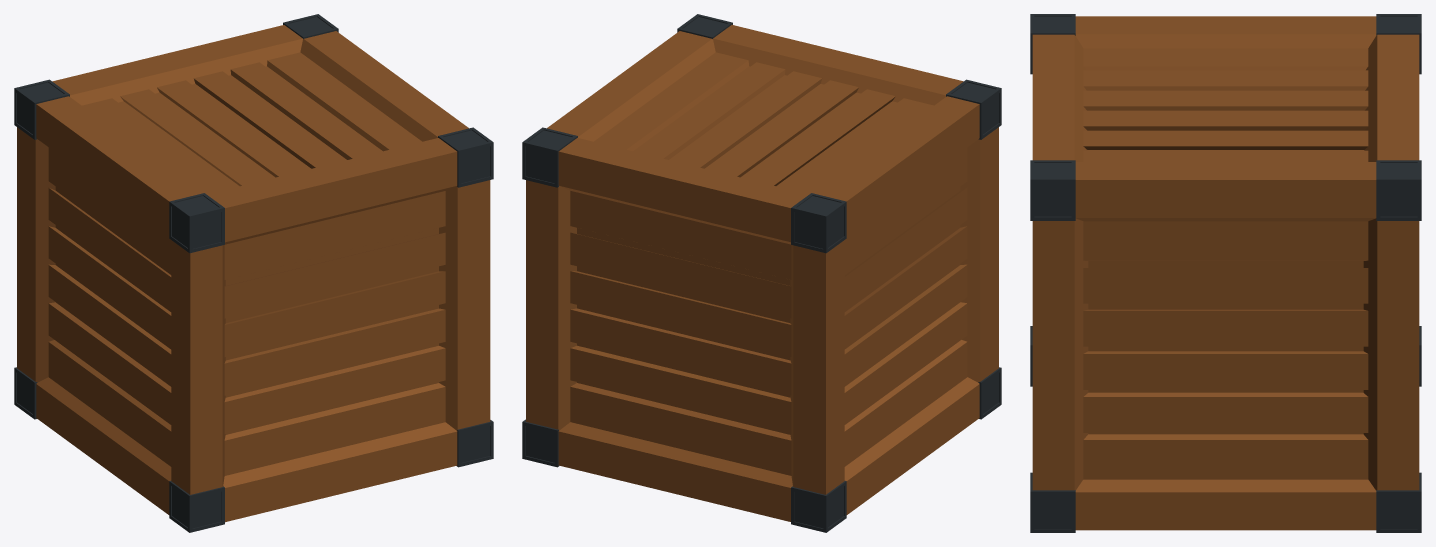
The model's file is StorageBoxes.fbx.
3 views of the same model, side by side, from view 1: azimuth 30°, elevation 25°; view 2: azimuth 150°, elevation 25°; view 3: azimuth 270°, elevation 25° (orthographic). The views are drawn at different scales.
Parts seen in each view (by area): view 1: Cube.005; view 2: Cube.005; view 3: Cube.005.
Boxes of the visible parts, <box> form: Cube.005: <box>14,14,493,532</box>; Cube.005: <box>522,14,1001,532</box>; Cube.005: <box>1030,14,1421,532</box>.
Size of the model in its own units: 79.79 by 79.38 by 79.68.
